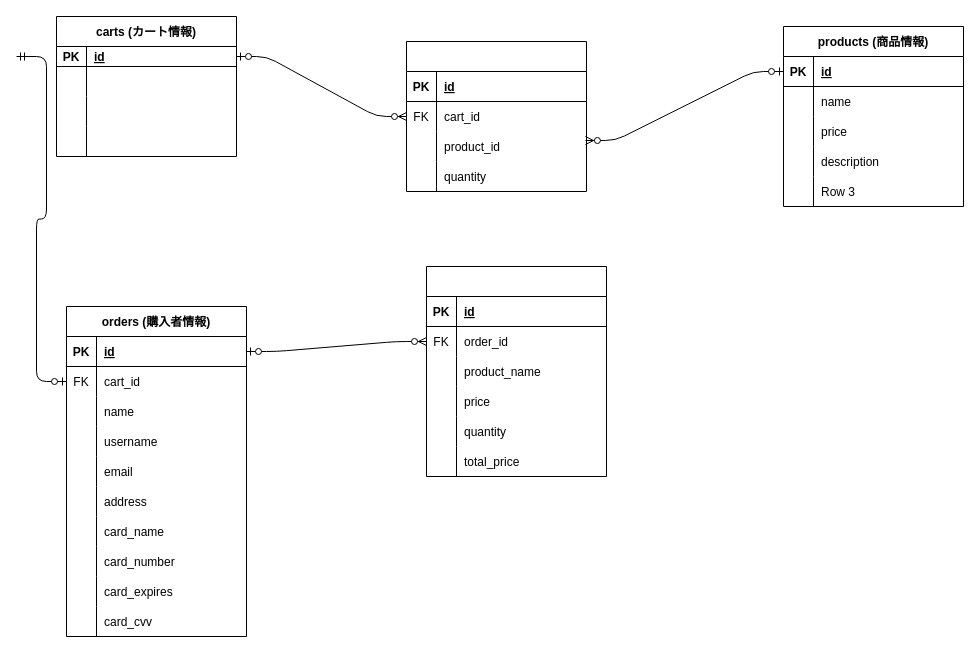
The diagram is 980 pixels wide and 653 high, and some of its shapes have lost their labels. Each missing label, with the box of its shape:
cart_products: (406, 40, 586, 192)
order_details (購入明細情報): (426, 266, 606, 476)
